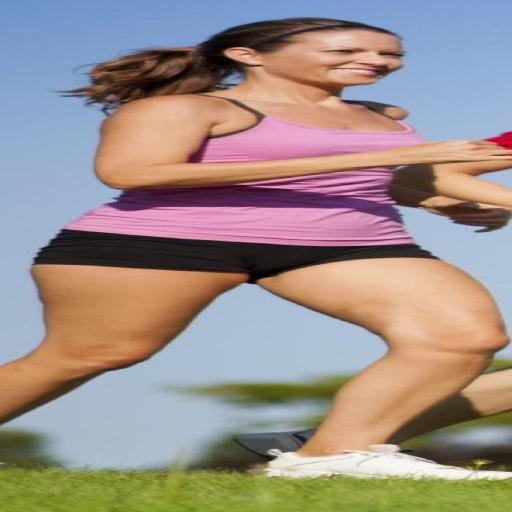person: (0, 18, 511, 479), (394, 161, 511, 227)
